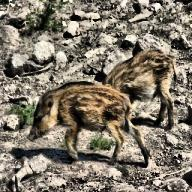boar: (26, 80, 150, 166), (102, 41, 177, 130)
